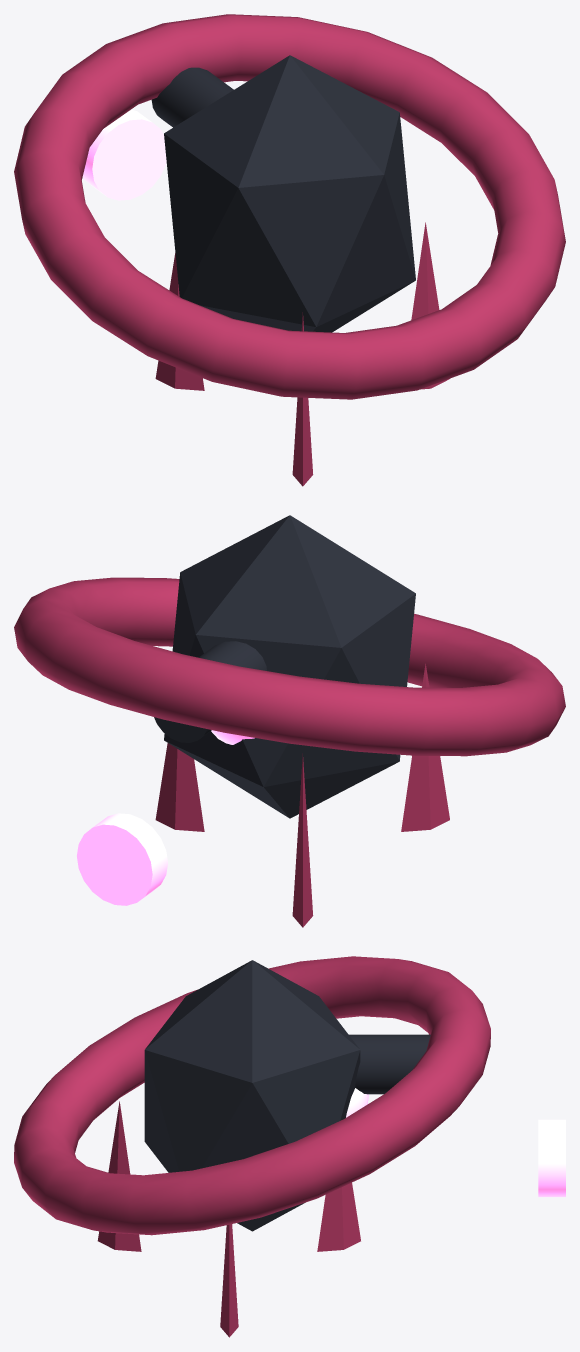
Rendered from enemy_sentinel.glb.
3 renders of one model, top to bottom at view 1: azimuth 30°, elevation 25°; view 2: azimuth 150°, elevation 25°; view 3: azimuth 270°, elevation 25°, orthographic. The views are drawn at different scales.
Visible parts, largest first — view 1: Ring, Torso, Muzzle, Cannon, Fin0, Fin2, Fin1; view 2: Ring, Torso, Muzzle, Fin0, Fin2, Cannon, Fin1; view 3: Ring, Torso, Cannon, Muzzle, Fin1, Fin2, Fin0.
Part boxes in pixels (box(x1,y1,x2,y2)): Ring: box(14, 14, 565, 399); Torso: box(164, 55, 415, 332); Muzzle: box(82, 109, 166, 200); Cannon: box(151, 67, 233, 127); Fin0: box(411, 222, 449, 389); Fin2: box(292, 312, 313, 486); Fin1: box(155, 253, 204, 390); Ring: box(14, 577, 565, 756); Torso: box(164, 515, 415, 818); Muzzle: box(77, 813, 167, 905); Fin0: box(155, 743, 204, 831); Fin2: box(401, 663, 449, 831); Cannon: box(154, 641, 266, 742); Fin1: box(292, 753, 313, 927); Ring: box(14, 956, 490, 1235); Torso: box(144, 960, 360, 1231); Cannon: box(349, 1034, 430, 1094); Muzzle: box(538, 1119, 565, 1197); Fin1: box(317, 1182, 360, 1251); Fin2: box(97, 1101, 141, 1251); Fin0: box(220, 1224, 238, 1337).
Size of the model in its own units: 2.17 by 1.5 by 2.39.
